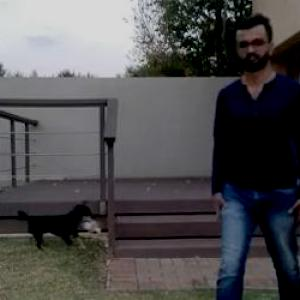follow: (193, 9, 299, 298)
